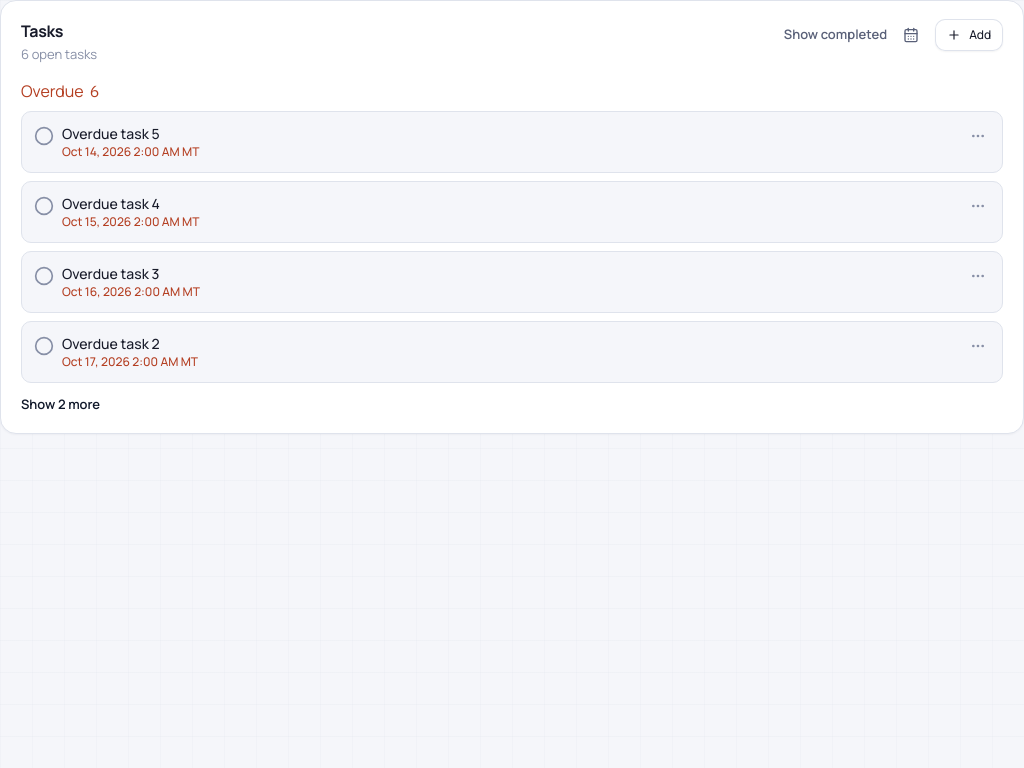
Test case: AdminTasksCard calendar › groups overdue tasks and caps the due list until expanded
Expected: the list item "Overdue" is shown, [21,80,84,102]
Expected: the text "Overdue task 5" is shown 4 times, [62,124,160,142]; [62,194,160,212]; [62,264,160,282]; [62,334,160,352]
Click the button "Show 2 more" at (61, 404), box [21,394,100,414]
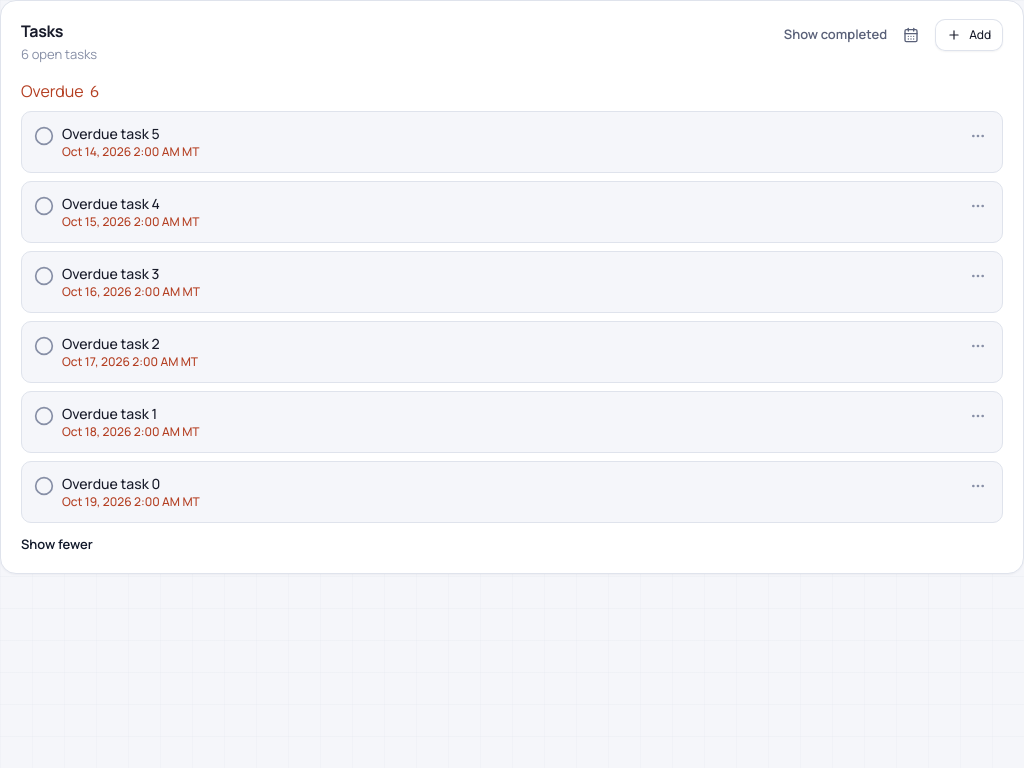
Now the text "Overdue task 5" is shown 6 times, box [62,124,160,142]; [62,194,160,212]; [62,264,160,282]; [62,334,160,352]; [62,404,157,422]; [62,474,160,492]
Now the button "Show fewer" is shown, box [21,534,93,554]
